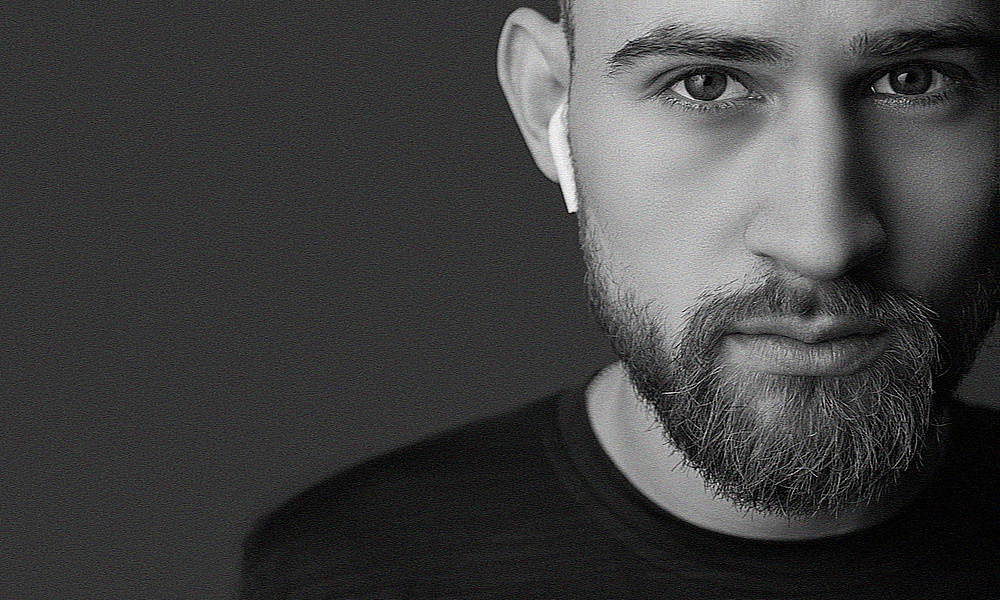earphone: (498, 5, 582, 212)
